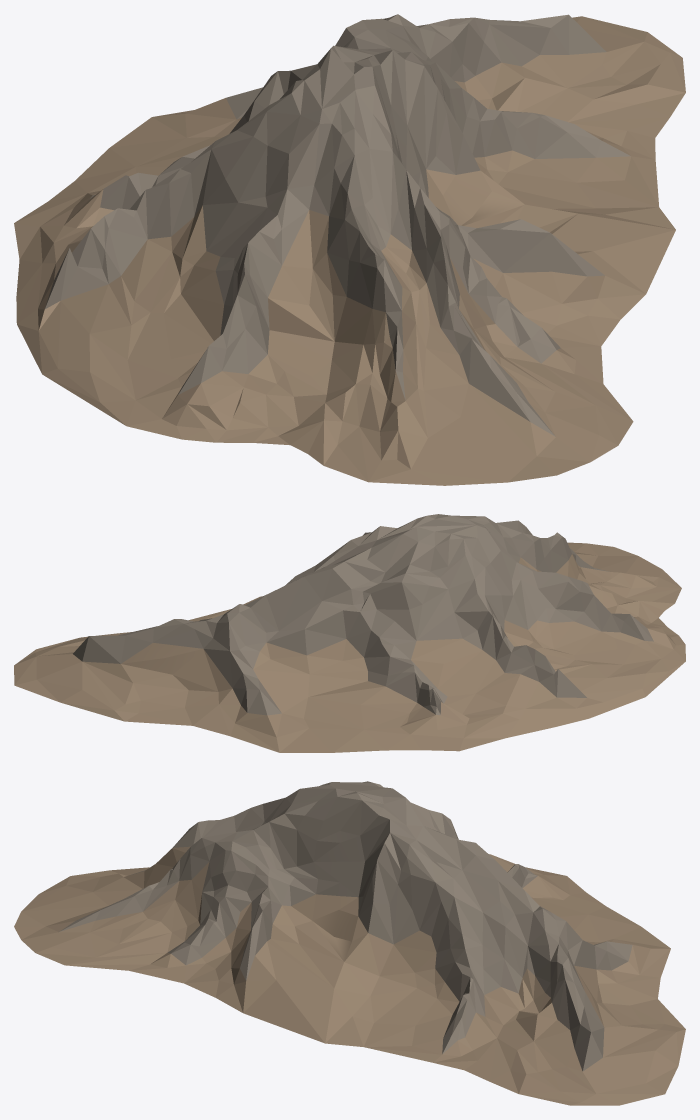
The model's file is SM_Env_Mountain_06.fbx.
The picture shows the model from 3 angles, top to bottom: view 1: azimuth 30°, elevation 25°; view 2: azimuth 150°, elevation 25°; view 3: azimuth 270°, elevation 25°; orthographic projection. The views are drawn at different scales.
Parts seen in each view (by area): view 1: SM_Env_Mountain_06; view 2: SM_Env_Mountain_06; view 3: SM_Env_Mountain_06.
Part boxes in pixels (left/top/right/bottom): SM_Env_Mountain_06: left=14, top=14, right=685, bottom=485; SM_Env_Mountain_06: left=14, top=514, right=685, bottom=752; SM_Env_Mountain_06: left=14, top=781, right=685, bottom=1105.
Bounding box in the file's own units: 6093 × 1584 × 6281.
